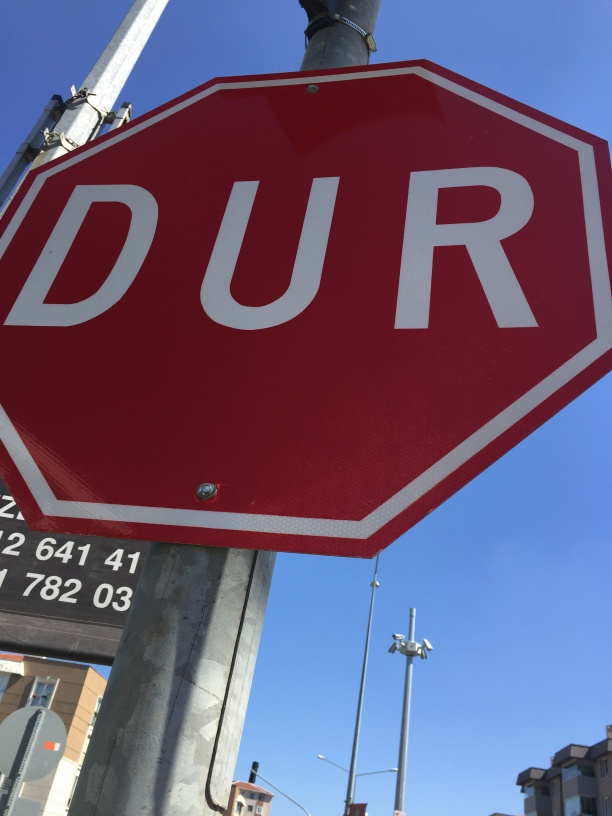arac_dur_isareti: (5, 65, 612, 650)
